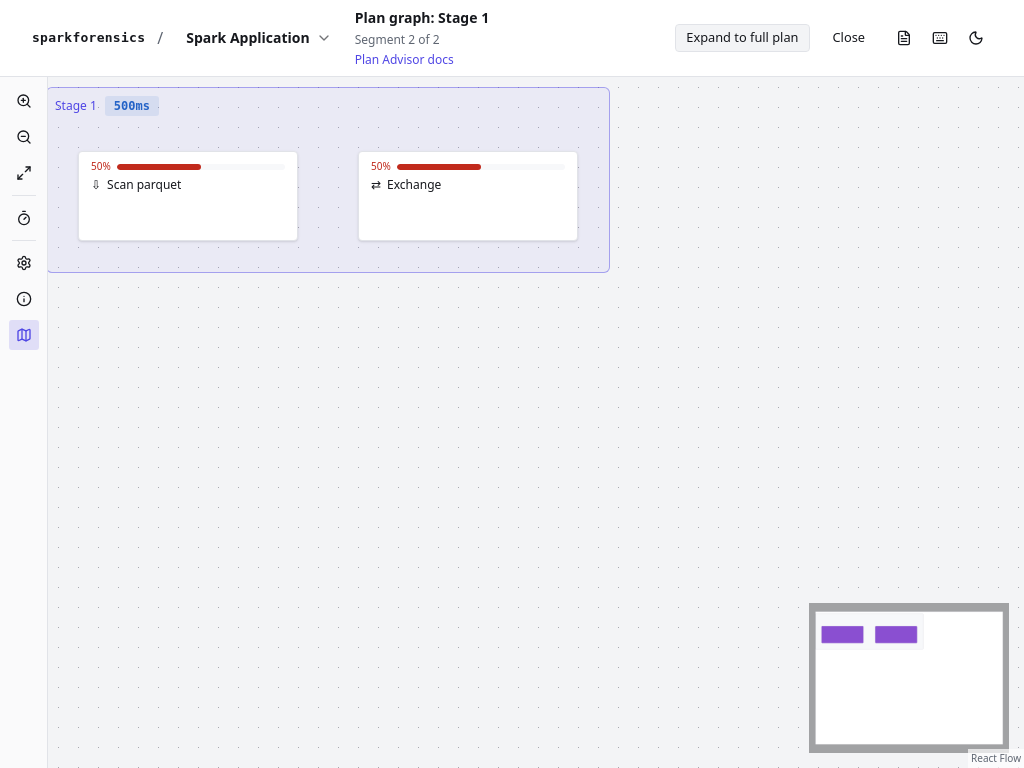
Test: jumping to an Exchange partner in another segment expands to the full plan and selects it
Check: the button "Expand to full plan" is shown, box [675,24,810,52]
Click the text titled "Exchange" at (414, 185), box [387,177,441,193]
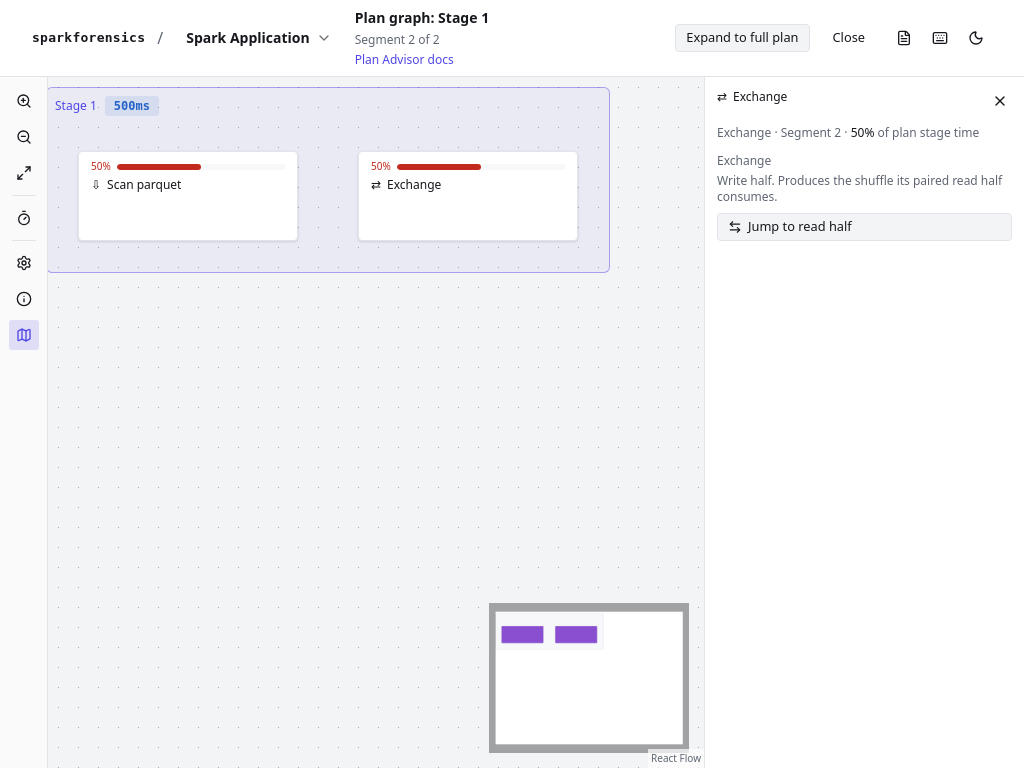
Click the button "Jump to read half" at (773, 226), box [717,213,1012,241]
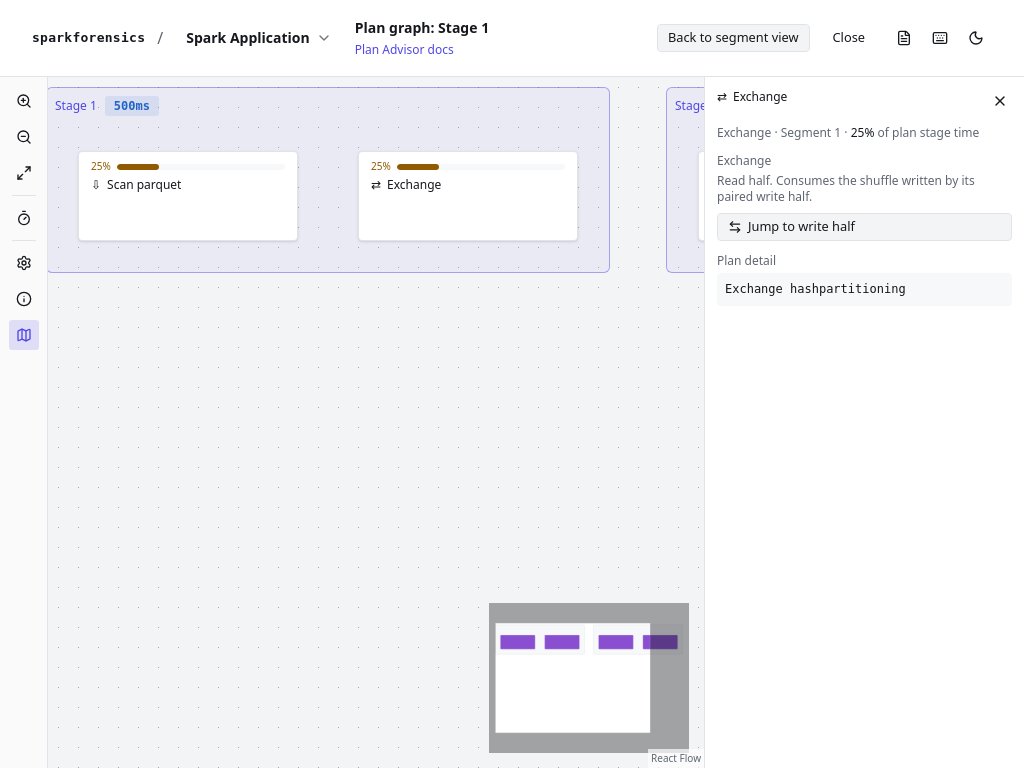
Check: the button "Back to segment view" is shown, box [657,24,810,52]
Check: the button "Jump to write half" is shown
Click the button "Jump to write half" at (773, 226), box [717,213,1012,241]
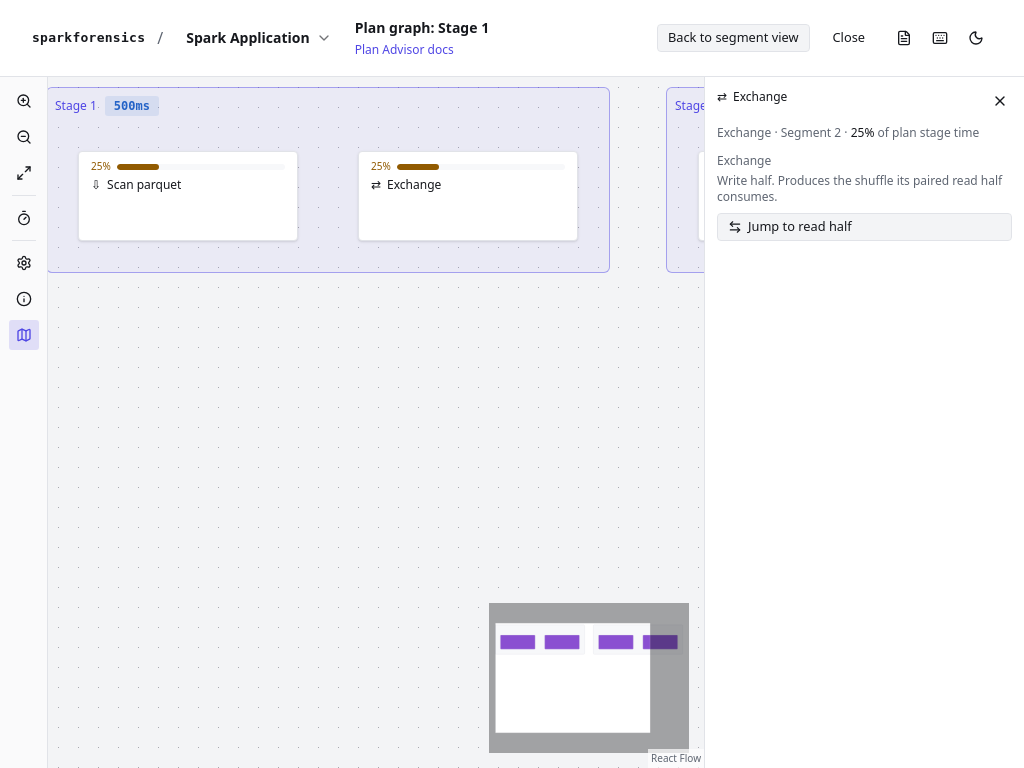
Check: the button "Back to segment view" is shown, box [657,24,810,52]
Check: the button "Jump to read half" is shown, box [717,213,1012,241]
